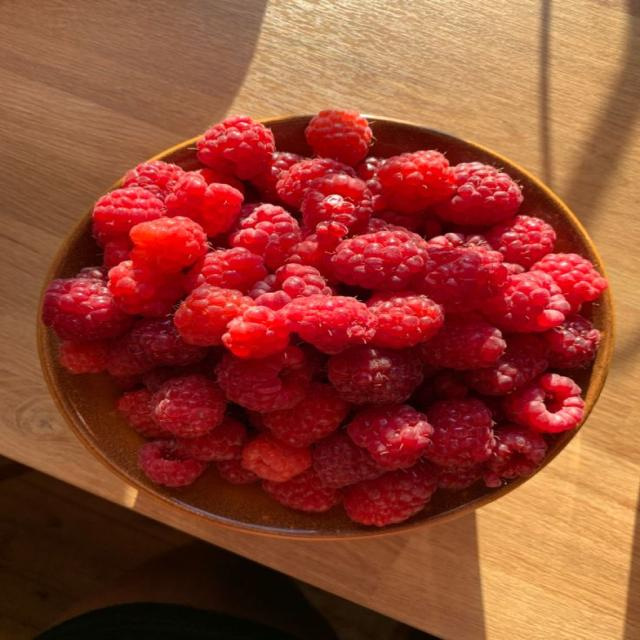raspberry: (416, 234, 508, 311), (217, 346, 313, 412), (344, 461, 436, 526), (333, 231, 428, 290), (347, 404, 433, 469), (42, 278, 133, 339), (328, 346, 422, 404), (263, 383, 349, 446), (436, 162, 522, 225), (482, 271, 570, 332), (286, 295, 374, 354), (465, 335, 548, 396), (418, 314, 506, 370), (197, 116, 274, 179), (166, 173, 243, 236), (174, 284, 253, 345), (425, 398, 494, 467), (504, 374, 584, 433), (378, 151, 453, 213), (229, 205, 301, 269), (154, 375, 226, 437), (367, 292, 444, 349), (130, 216, 207, 273), (532, 254, 607, 311), (108, 261, 184, 317), (300, 174, 372, 232), (93, 187, 164, 245), (314, 431, 386, 487), (277, 158, 354, 208), (484, 425, 546, 487), (129, 317, 206, 366), (141, 348, 226, 392), (186, 247, 267, 293), (305, 110, 372, 165), (486, 216, 555, 268), (222, 306, 290, 358), (242, 432, 312, 482), (262, 469, 342, 512), (250, 263, 333, 304), (139, 440, 206, 486), (540, 316, 599, 368), (179, 419, 247, 461), (286, 233, 341, 284), (251, 151, 303, 204), (408, 366, 468, 411), (116, 389, 171, 437), (123, 161, 184, 200), (107, 332, 153, 378), (376, 211, 443, 239), (408, 365, 443, 412), (356, 157, 386, 211), (60, 340, 109, 373), (197, 168, 246, 196), (436, 464, 482, 489), (299, 343, 328, 381), (216, 460, 259, 484), (432, 370, 467, 399), (104, 235, 133, 268), (255, 290, 292, 311), (355, 157, 386, 182), (75, 265, 108, 281), (365, 218, 399, 233), (114, 375, 140, 390), (247, 411, 266, 431), (504, 263, 526, 275)
